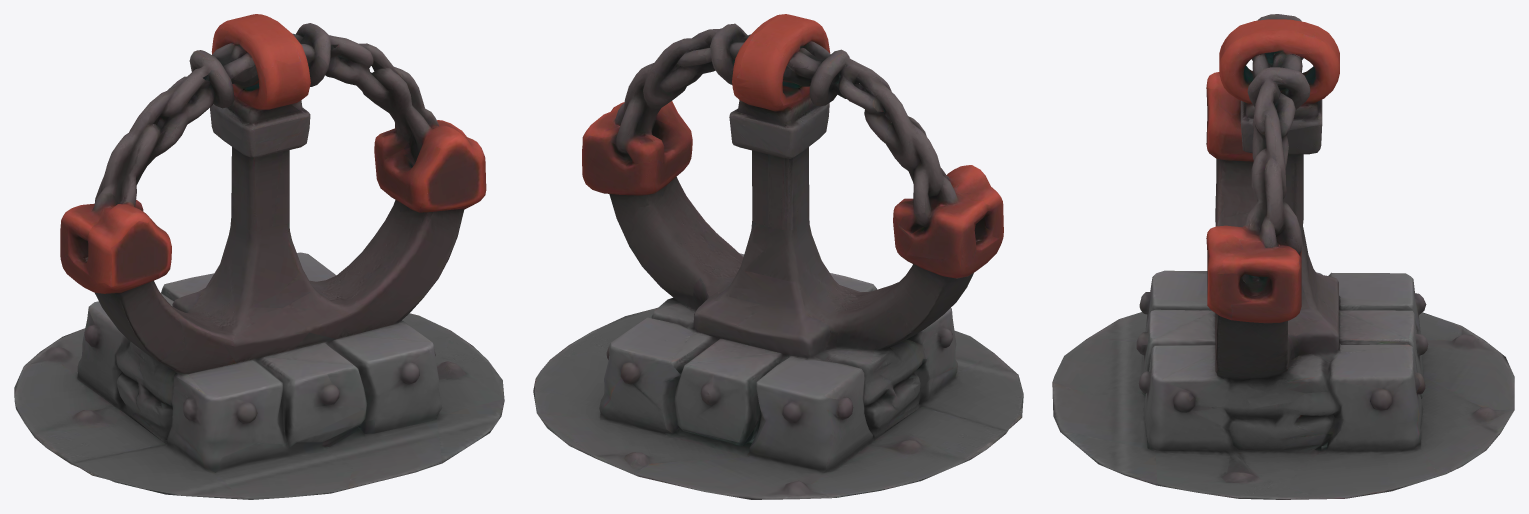
File: anchor-block.opt.glb
3 renders of one model, left to right at view 1: azimuth 30°, elevation 25°; view 2: azimuth 150°, elevation 25°; view 3: azimuth 270°, elevation 25°, orthographic.
Bounding box in the file's own units: 1.94 × 1.64 × 1.84.
Materials: 1 (1 with a texture image).
